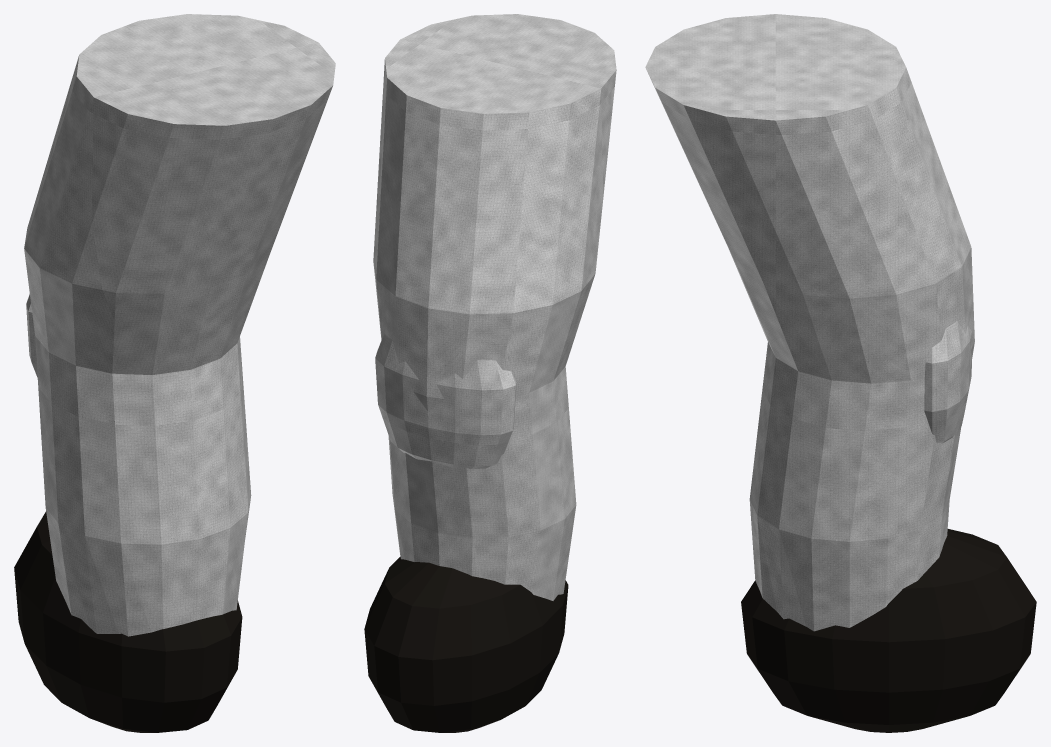
Rendered from FieldLegL.obj.
The picture shows the model from 3 angles, left to right: view 1: azimuth 30°, elevation 25°; view 2: azimuth 150°, elevation 25°; view 3: azimuth 270°, elevation 25°; orthographic projection. The views are drawn at different scales.
Bounding box in the file's own units: 0.3106 × 0.84 × 0.45.
Materials: 3 (2 with a texture image).
